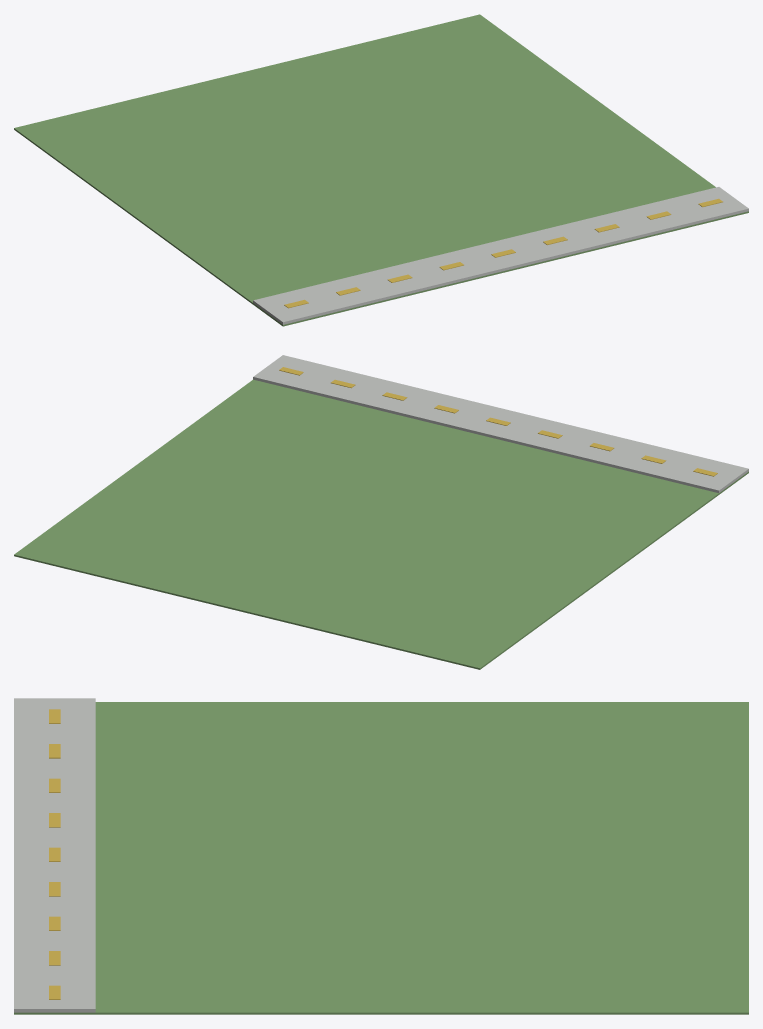
The model's file is stage_00.glb.
3 views of the same model, one above another, from view 1: azimuth 30°, elevation 25°; view 2: azimuth 150°, elevation 25°; view 3: azimuth 270°, elevation 25° (orthographic). The views are drawn at different scales.
Parts seen in each view (by area): view 1: geometry_0; view 2: geometry_0; view 3: geometry_0.
Boxes of the visible parts, x1=… form: geometry_0: x1=14, y1=14, x2=748, y2=326; geometry_0: x1=14, y1=355, x2=748, y2=669; geometry_0: x1=14, y1=698, x2=748, y2=1014.
Size of the model in its own units: 9 by 0.091 by 9.
